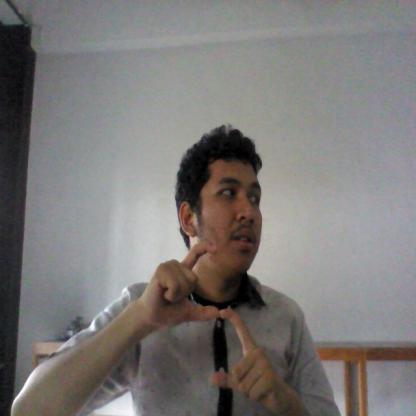S: (142, 241, 274, 403)
